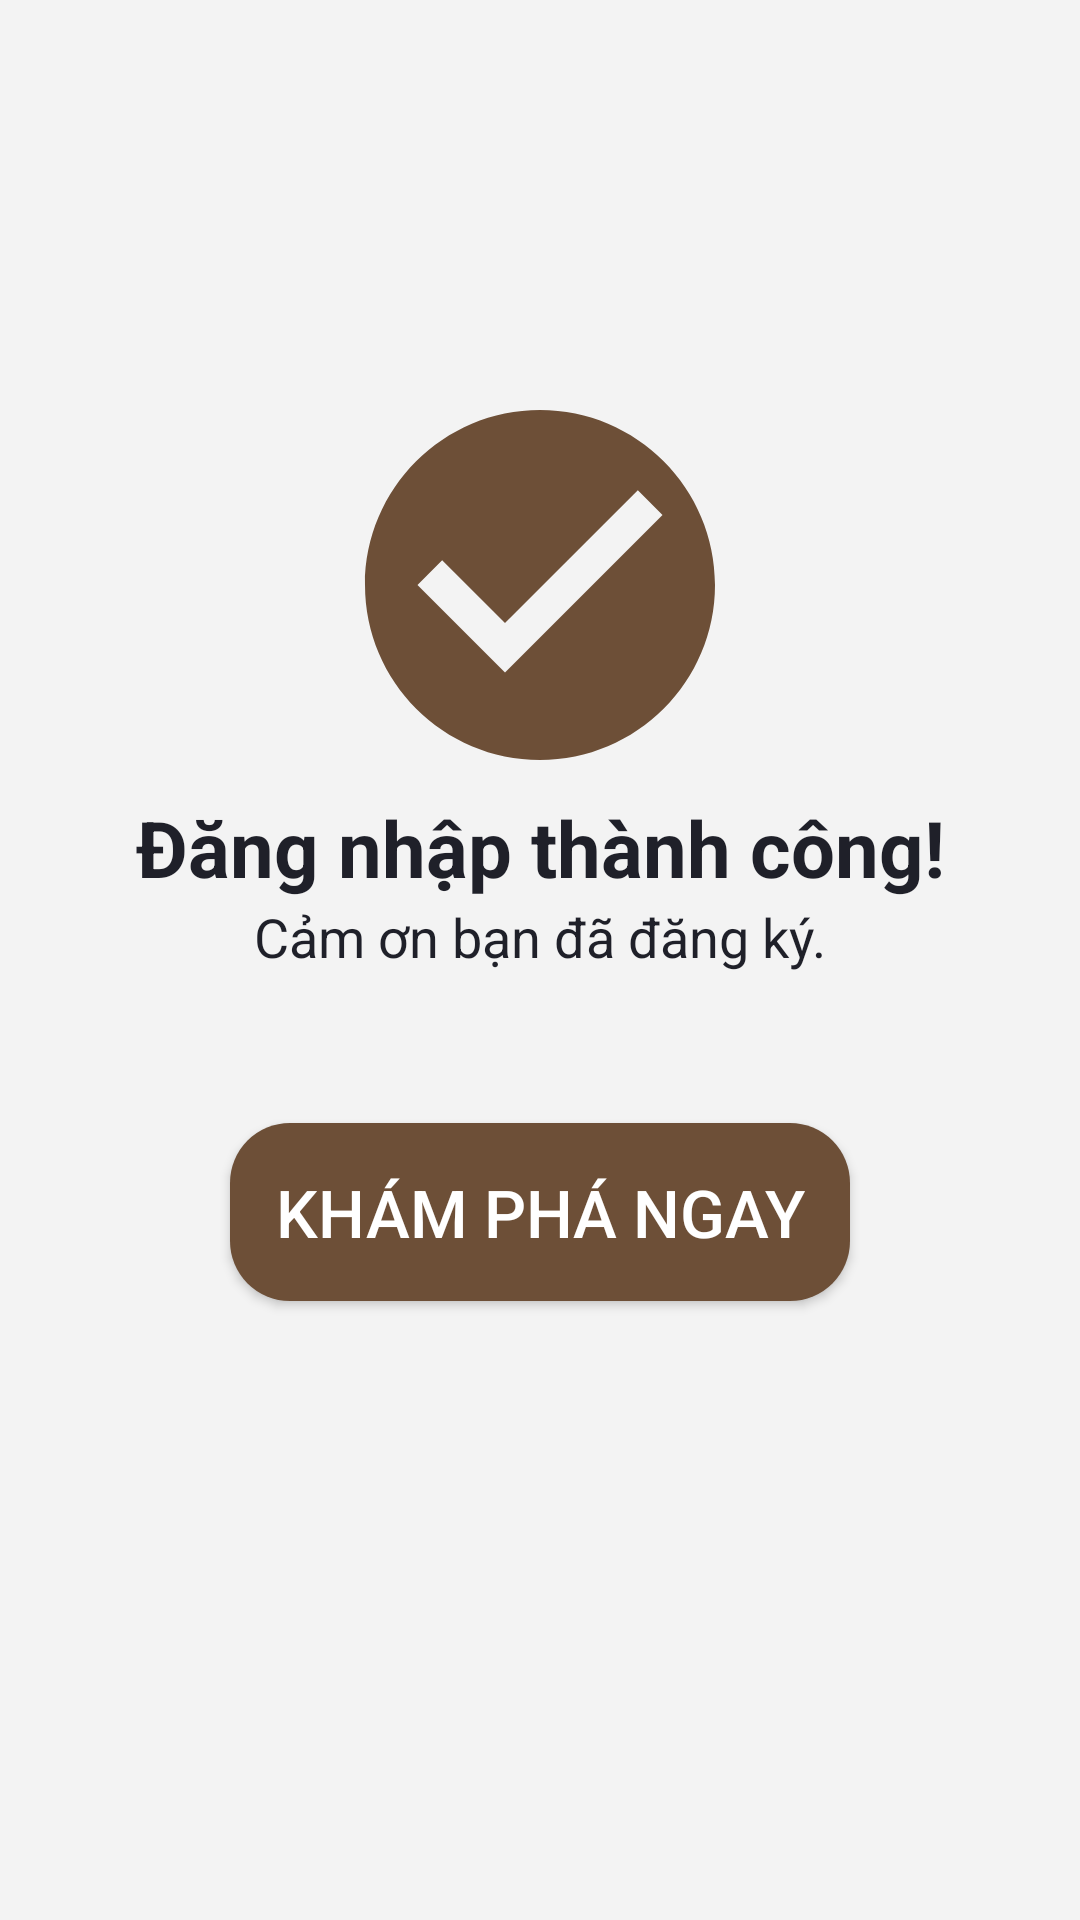

Where icons sit on this 1080×1920 app screen, as [left=x1, top=y1, right=x2, bottom=y2]:
check circle: [left=365, top=410, right=715, bottom=760]
